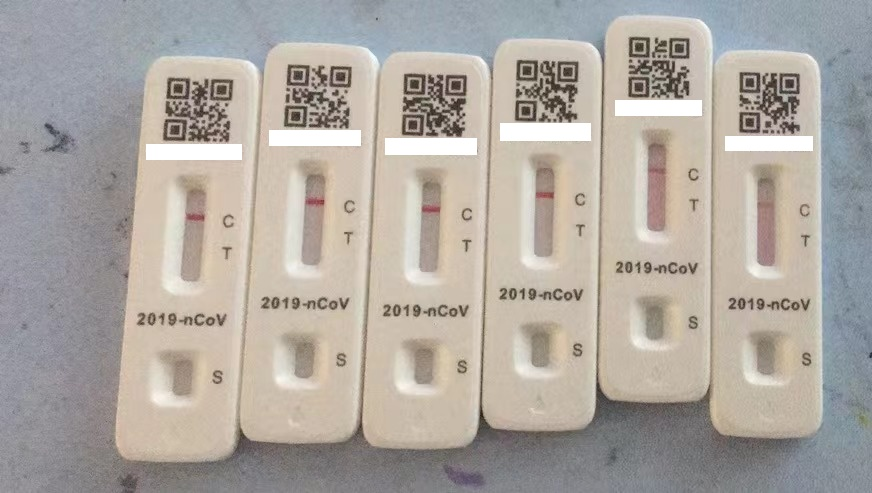negative: (287, 160, 333, 278), (745, 164, 786, 284), (523, 155, 565, 271), (408, 168, 448, 287), (172, 177, 210, 295), (639, 130, 675, 244)
